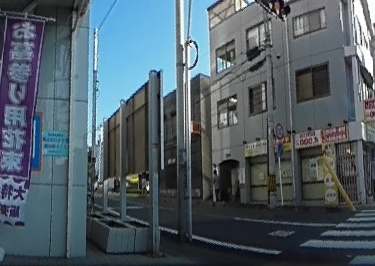person: (211, 168, 221, 201)
